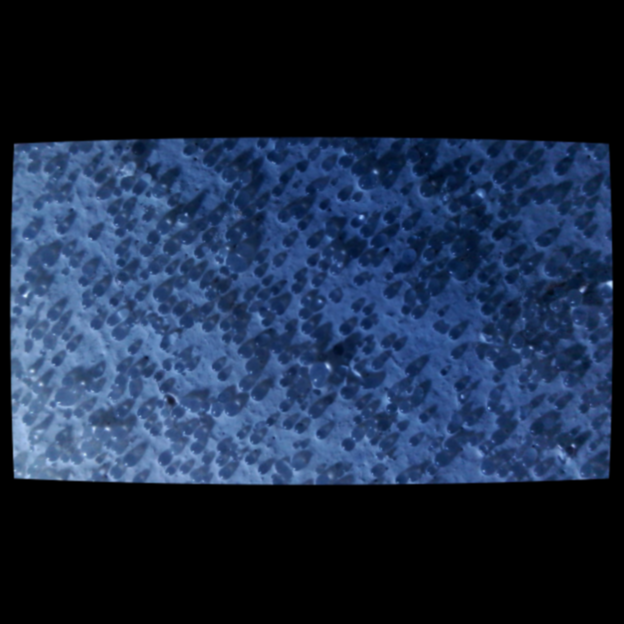GrassBeadSeg: (40, 161, 506, 467), (60, 151, 602, 406), (68, 160, 507, 465), (57, 161, 536, 437), (58, 147, 596, 383), (17, 171, 556, 406), (43, 205, 528, 463), (71, 175, 543, 435), (21, 178, 523, 396), (37, 143, 507, 367), (24, 163, 529, 371), (169, 212, 588, 457), (66, 143, 407, 431), (68, 258, 537, 465), (110, 184, 433, 474), (12, 220, 583, 384), (146, 232, 544, 466), (14, 167, 363, 432), (236, 146, 582, 413), (143, 272, 592, 477), (106, 254, 515, 479), (51, 179, 393, 443), (119, 163, 599, 344), (104, 206, 486, 433), (119, 184, 449, 446), (30, 200, 424, 417), (110, 235, 490, 454), (198, 258, 600, 465), (214, 229, 592, 445), (141, 143, 441, 411), (13, 272, 600, 405), (208, 147, 499, 413), (59, 188, 562, 341), (218, 255, 596, 451), (131, 261, 558, 427), (268, 200, 611, 403), (13, 297, 478, 445), (160, 146, 402, 427), (155, 304, 559, 470), (114, 141, 363, 409), (30, 329, 466, 477), (82, 298, 486, 454), (91, 174, 375, 392), (125, 192, 361, 452), (47, 327, 545, 447), (88, 277, 494, 423), (146, 318, 552, 460), (73, 220, 360, 418), (278, 234, 551, 429), (409, 164, 585, 466), (181, 320, 592, 449), (151, 185, 508, 332), (43, 309, 564, 409), (221, 168, 426, 417), (132, 249, 434, 418), (37, 155, 283, 358), (20, 234, 394, 366), (187, 262, 407, 481), (214, 142, 400, 401), (245, 278, 533, 444), (18, 227, 460, 335), (75, 276, 317, 464), (55, 224, 275, 427), (123, 364, 508, 477), (30, 246, 587, 323), (339, 190, 507, 444), (295, 167, 566, 319), (62, 235, 381, 364), (199, 153, 420, 332), (113, 348, 599, 429), (119, 141, 580, 226), (12, 370, 545, 443), (225, 140, 458, 305), (64, 173, 283, 348), (406, 151, 525, 473), (267, 301, 532, 445), (296, 199, 528, 360), (157, 382, 546, 477), (284, 187, 434, 420), (84, 231, 435, 330), (87, 290, 396, 399), (169, 320, 447, 440), (21, 180, 157, 424), (59, 284, 311, 410), (170, 279, 365, 440), (282, 292, 507, 427), (108, 225, 372, 340), (29, 197, 183, 392), (160, 239, 460, 339), (402, 218, 587, 376), (275, 212, 395, 450), (88, 149, 419, 235), (120, 358, 382, 466), (125, 379, 588, 440), (54, 226, 171, 465), (244, 224, 564, 311), (110, 144, 304, 278), (121, 169, 245, 378), (14, 303, 182, 454), (122, 316, 372, 417), (300, 323, 577, 413), (178, 347, 532, 415), (264, 282, 500, 383), (253, 331, 406, 484), (190, 257, 315, 440), (227, 255, 329, 478), (51, 360, 566, 404), (297, 247, 471, 375), (373, 215, 473, 432), (161, 170, 251, 409), (105, 296, 290, 411), (85, 304, 260, 425), (318, 249, 462, 396), (229, 320, 553, 383), (135, 318, 505, 372), (159, 238, 292, 387), (195, 155, 317, 315), (119, 183, 597, 221), (424, 180, 611, 270), (178, 253, 266, 436), (217, 217, 359, 329), (290, 279, 595, 331), (201, 155, 308, 300), (169, 307, 525, 349), (191, 347, 299, 484), (74, 408, 305, 470), (174, 200, 273, 344), (22, 316, 133, 444), (245, 238, 317, 434), (221, 229, 560, 270), (413, 308, 496, 475), (367, 257, 439, 449), (473, 347, 611, 447), (180, 223, 413, 282), (397, 339, 602, 405), (151, 187, 474, 228), (58, 205, 306, 258), (286, 388, 437, 475), (276, 309, 445, 386), (28, 328, 461, 358), (406, 208, 590, 277), (405, 343, 525, 446), (290, 269, 428, 357), (110, 219, 412, 257), (88, 242, 294, 297), (25, 151, 73, 387), (226, 242, 489, 284), (56, 453, 418, 483), (388, 139, 550, 206), (11, 186, 131, 274), (388, 275, 515, 350), (103, 256, 231, 326), (64, 234, 265, 278), (24, 308, 100, 423), (235, 377, 350, 451), (247, 322, 352, 401), (114, 225, 257, 283), (65, 258, 281, 295), (436, 244, 534, 320), (14, 398, 106, 475), (47, 346, 123, 439), (210, 407, 305, 479), (231, 305, 321, 380), (269, 414, 375, 476), (128, 389, 203, 476), (445, 137, 537, 207), (446, 179, 515, 272), (108, 142, 144, 317), (258, 318, 459, 349), (523, 303, 610, 371), (262, 318, 321, 418), (230, 136, 335, 189), (349, 143, 458, 194), (139, 281, 213, 355), (497, 257, 583, 318), (115, 243, 203, 302), (403, 387, 493, 440), (315, 281, 387, 347), (295, 339, 369, 402), (461, 400, 523, 475), (101, 284, 304, 306), (78, 375, 162, 428), (62, 386, 119, 463), (93, 187, 192, 230), (256, 353, 446, 375), (60, 144, 129, 202), (181, 142, 243, 206), (20, 141, 63, 225), (454, 163, 544, 203), (298, 337, 357, 398), (488, 231, 534, 301), (177, 207, 225, 271), (105, 346, 161, 400), (412, 229, 489, 267), (315, 247, 389, 285), (124, 453, 231, 479), (333, 191, 369, 267), (363, 383, 391, 474), (309, 276, 412, 299), (290, 137, 367, 167), (446, 248, 531, 275), (199, 410, 240, 463), (284, 297, 311, 375), (583, 258, 612, 324), (20, 377, 81, 407), (251, 151, 282, 209), (114, 164, 150, 212), (518, 439, 575, 468), (488, 374, 534, 409), (92, 428, 122, 462), (162, 351, 193, 376), (138, 243, 159, 273), (153, 256, 185, 273), (562, 141, 595, 156), (365, 229, 385, 249), (297, 321, 314, 334), (111, 376, 124, 387)
